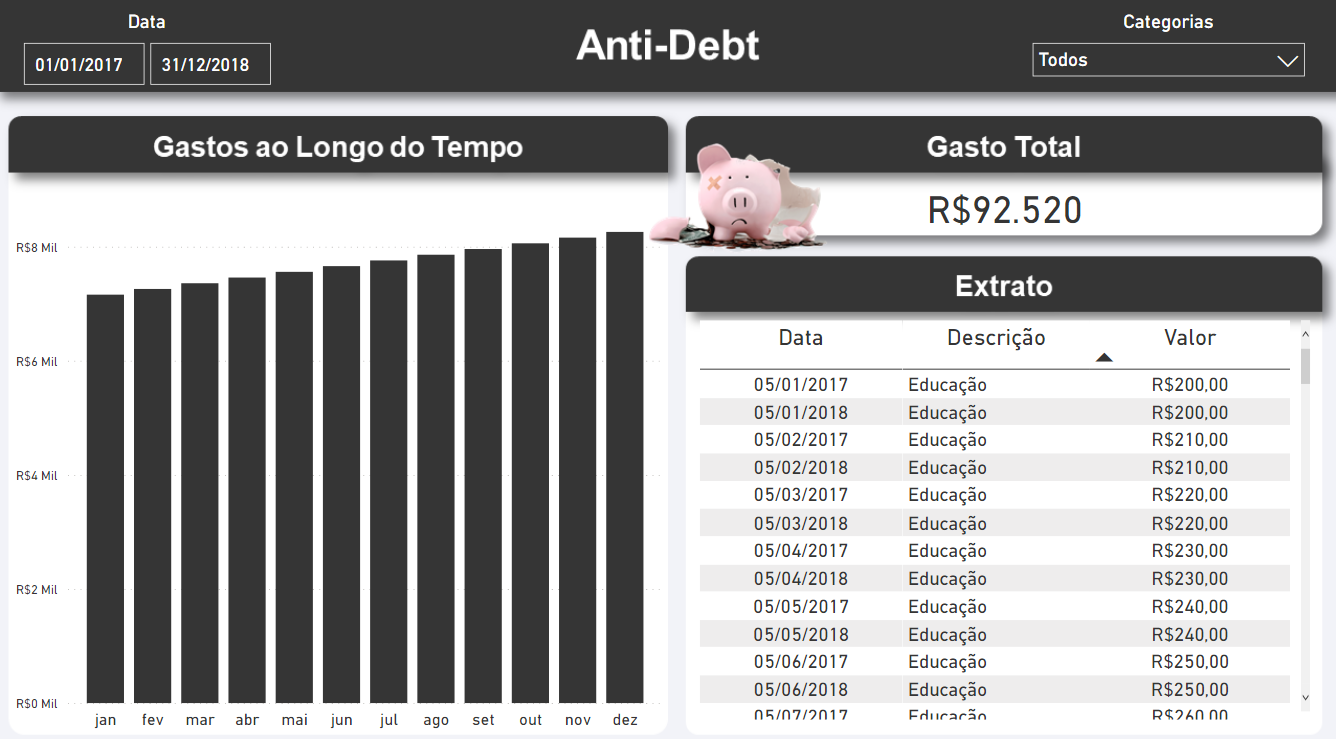

The dashboard page shown, as its layout file describes it:
{"tool":"powerbi","page":{"name":"anti-debt","canvas":[1280,720],"ordinal":0},"visuals":[{"type":"clusteredColumnChart","title":"Gastos ao Longo do Tempo","fields":{"Y":["Sum(fFluxo.Valor)"],"Category":["dCalendario.Data.Variation.Hierarquia de datas.Ano","dCalendario.Data.Variation.Hierarquia de datas.Mês"]},"box":[11.9,168.4,628.1,536.1],"z":0},{"type":"slicer","title":"Categorias","fields":{"Values":["dCategorias.Categoria"]},"box":[977.9,11,280,75],"z":1000},{"type":"slicer","title":"Data","fields":{"Values":["dCalendario.Data"]},"box":[11.9,10.7,260.3,75.2],"z":2000},{"type":"tableEx","fields":{"Values":["fFluxo.Data","fFluxo.Descricao","fFluxo.Valor"]},"box":[663.9,302.1,594.6,391.6],"z":3000},{"type":"card","fields":{"Values":["_mGeral.Gasto total"]},"box":[785.7,168.4,352.2,59.7],"z":4000}]}

Visuals, with their boxes in screenshot pixels (x1, y1, x2, y2), scaled from the page's 1280x720 canvas onto the 1336x739 screenshot:
"Gastos ao Longo do Tempo" clusteredColumnChart: rect(12, 173, 668, 723)
"Categorias" slicer: rect(1021, 11, 1313, 88)
"Data" slicer: rect(12, 11, 284, 88)
tableEx - fFluxo.Data x fFluxo.Descricao: rect(693, 310, 1314, 712)
card - _mGeral.Gasto total: rect(820, 173, 1188, 234)
